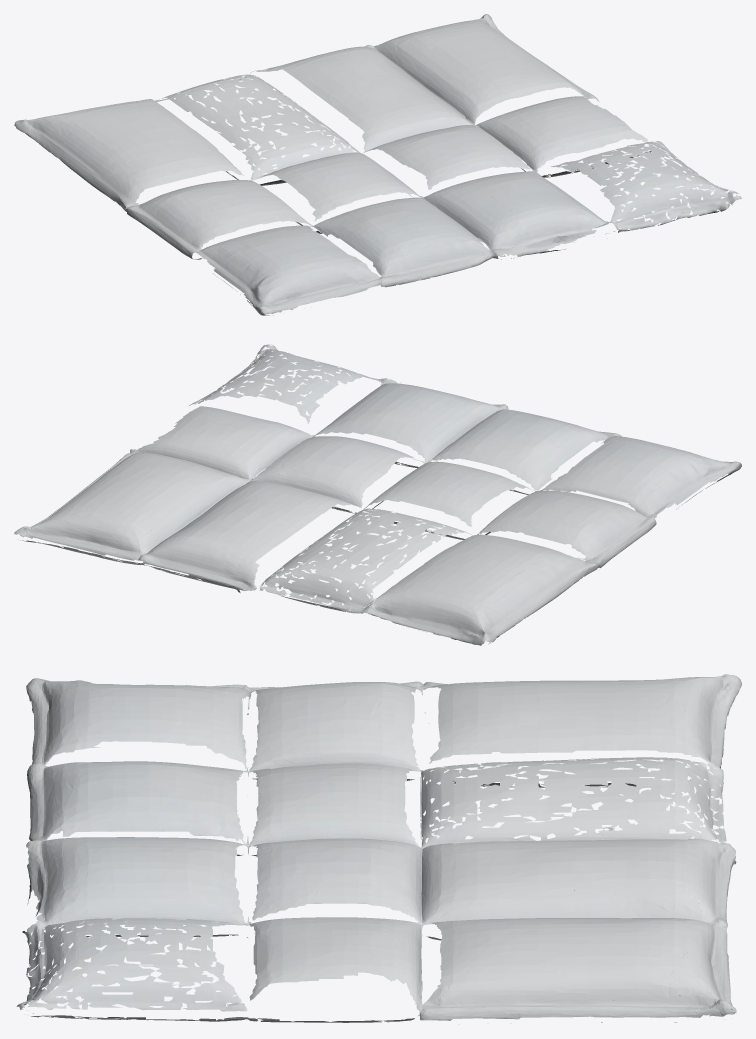
3 renders of one model, top to bottom at view 1: azimuth 30°, elevation 25°; view 2: azimuth 150°, elevation 25°; view 3: azimuth 270°, elevation 25°, orthographic. The views are drawn at different scales.
Parts seen in each view (by area): view 1: geometry_0; view 2: geometry_0; view 3: geometry_0.
Part boxes in pixels (<box>): geometry_0: <box>14,14,741,315</box>; geometry_0: <box>14,344,741,645</box>; geometry_0: <box>16,674,741,1022</box>.
Bounding box in the file's own units: 0.9989 × 0.0844 × 0.9349.
1 material, 1 textured.
